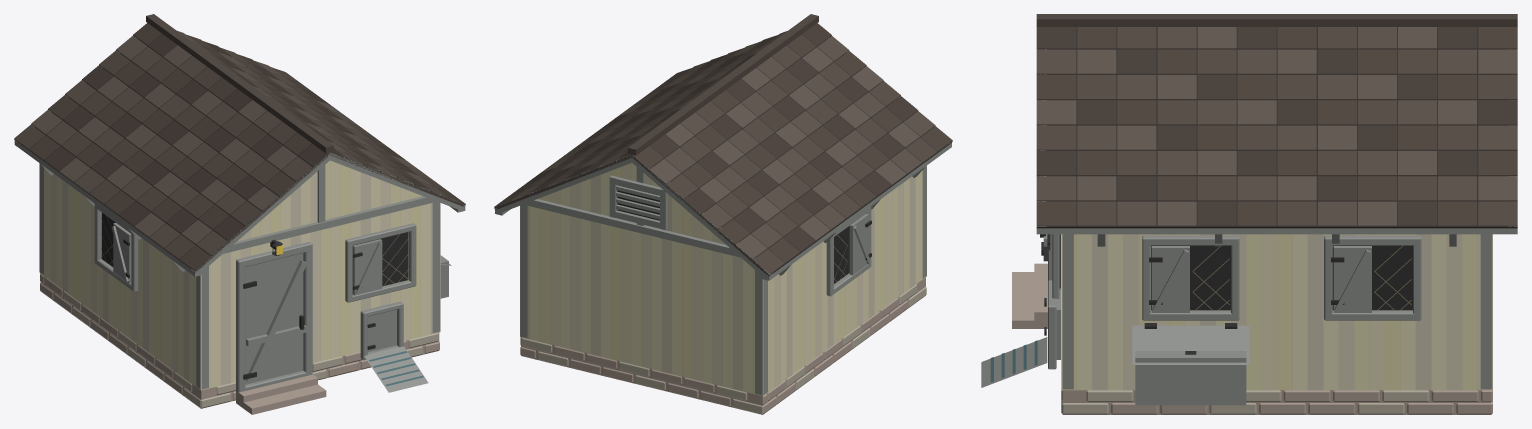
Rendered from Coop_A_High.fbx.
3 views of the same model, side by side, from view 1: azimuth 30°, elevation 25°; view 2: azimuth 150°, elevation 25°; view 3: azimuth 270°, elevation 25° (orthographic). The views are drawn at different scales.
Parts seen in each view (by area): view 1: Coop_A_High; view 2: Coop_A_High; view 3: Coop_A_High.
Part boxes in pixels (x1,y1,x2,y2): Coop_A_High: (14, 14, 465, 414); Coop_A_High: (494, 14, 952, 414); Coop_A_High: (981, 14, 1517, 414).
Size of the model in its own units: 7.35 by 5.74 by 8.7.
